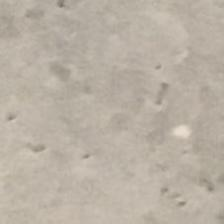Non_Crack: (15, 12, 205, 205)
